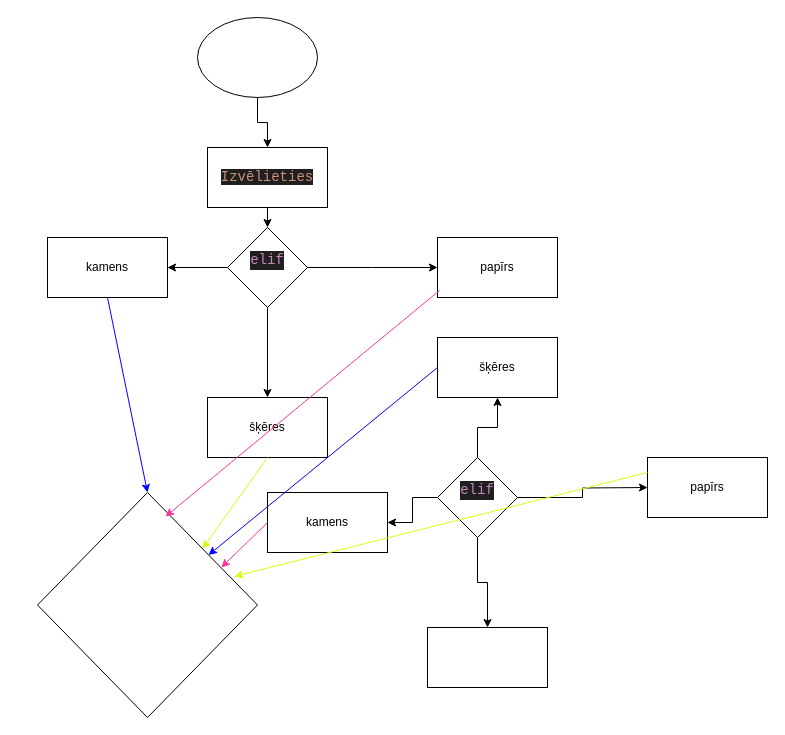
Image size: 785x735. Some labels were removed from this diagram. Here are the shapes that lost their labels. From the top down, the centre of each, then its label:
At (257,57): "start".
At (147,605): "user_choice == computer_choice".
At (487,657): "computera izvēle".
